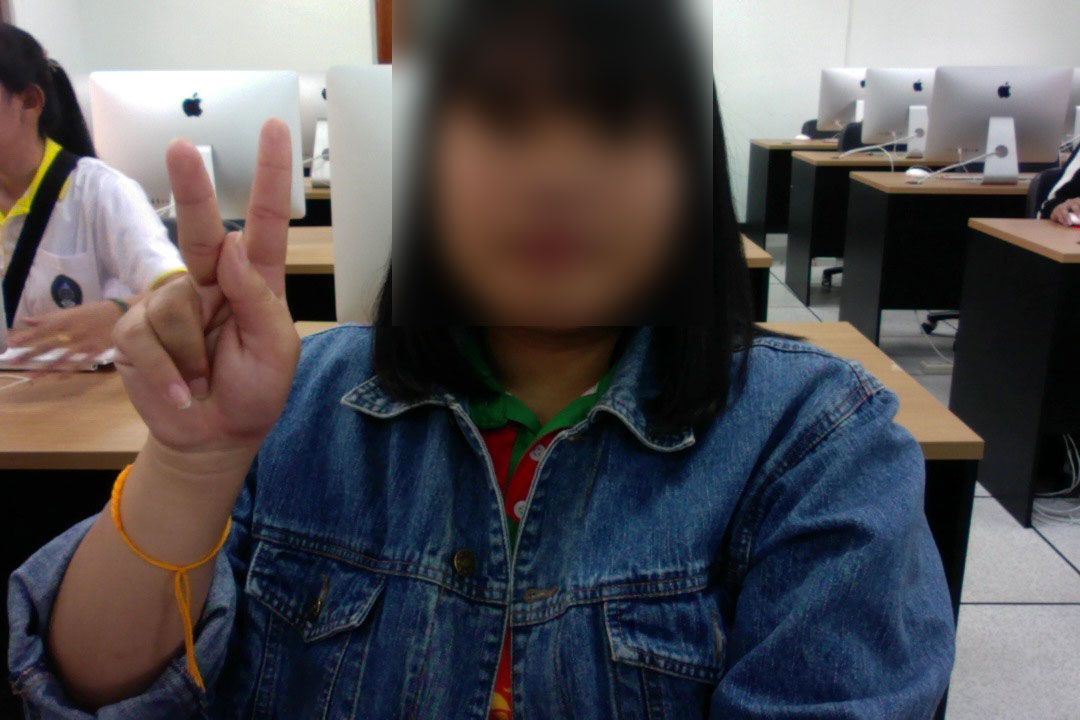ko: (110, 105, 311, 464)
